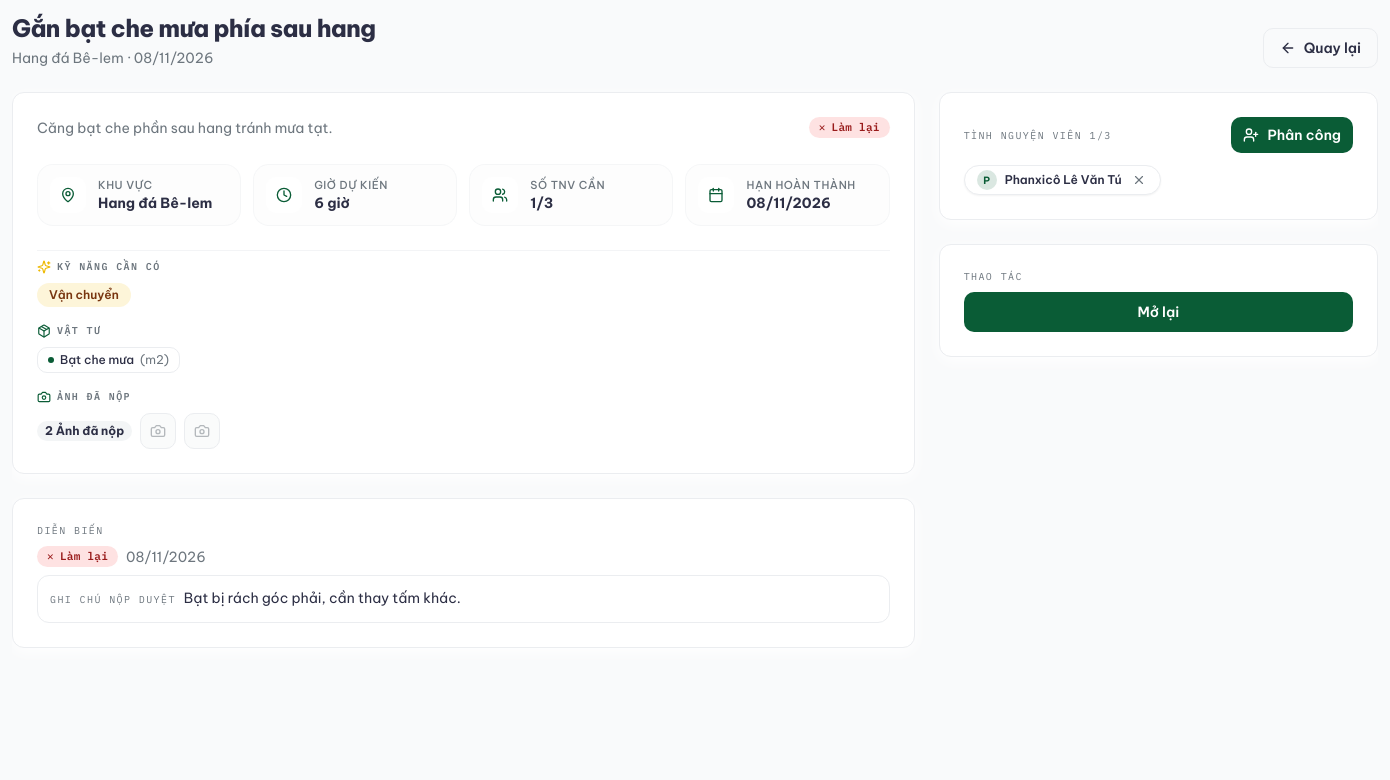
Test case: việc REVISE: bấm "Mở lại" → việc chuyển sang DOING
Check: the heading "Gắn bạt che mưa phía sau hang" is shown, box [12,12,375,44]
Step 1. Click the button "Mở lại" → (1158, 312), box [964,292,1353,332]
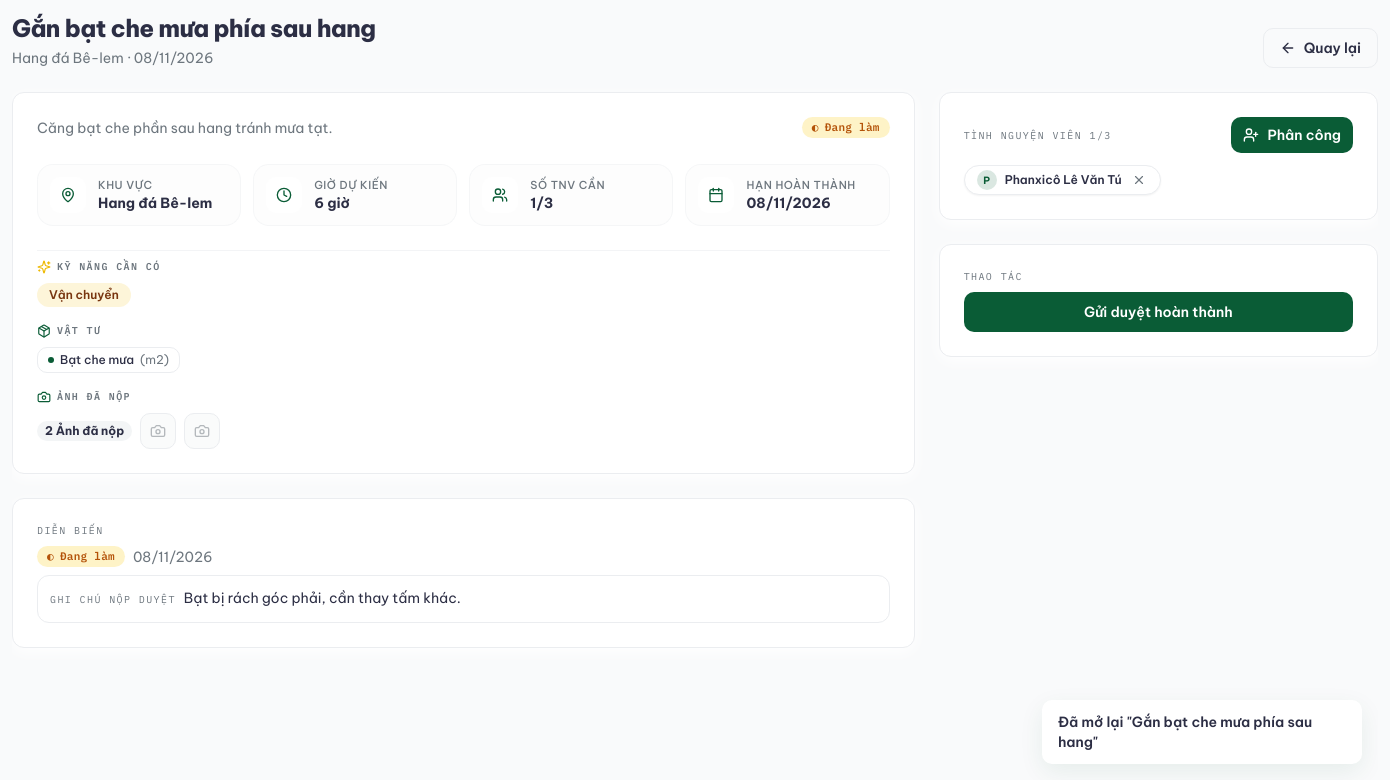
Check: the 1st text "Đang làm" is shown, box [825,120,880,134]
Check: the button "Gửi duyệt hoàn thành" is shown, box [964,292,1353,332]
